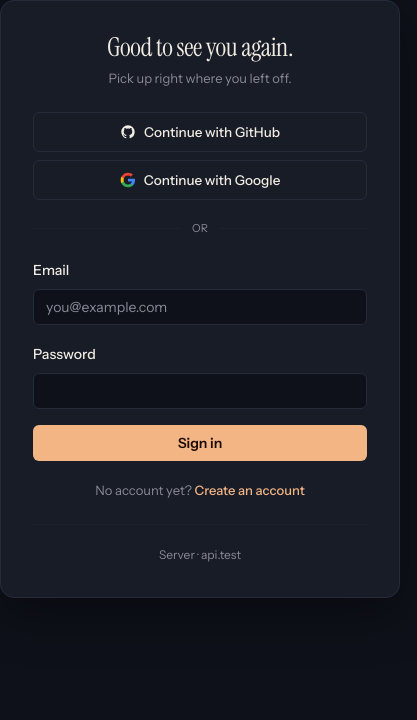
LoginPageContent › reveals the server field behind the host line
Expected: the field labelled "API URL" is not shown
Click the button "Server · api.test": (200, 555) [159,546,241,564]
(page scrolled)
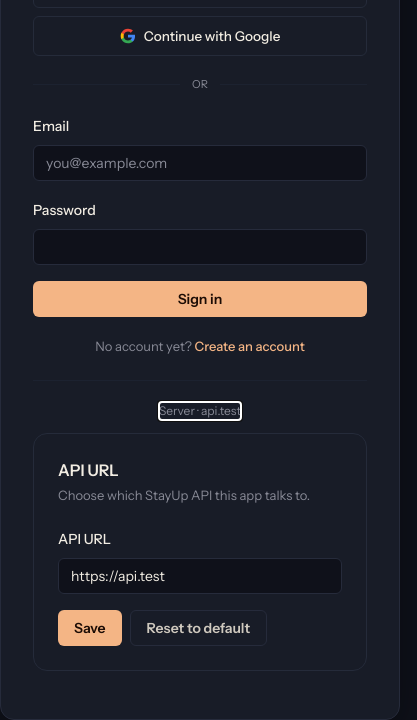
Expected: the field labelled "API URL" is shown, [58,558,342,594]
